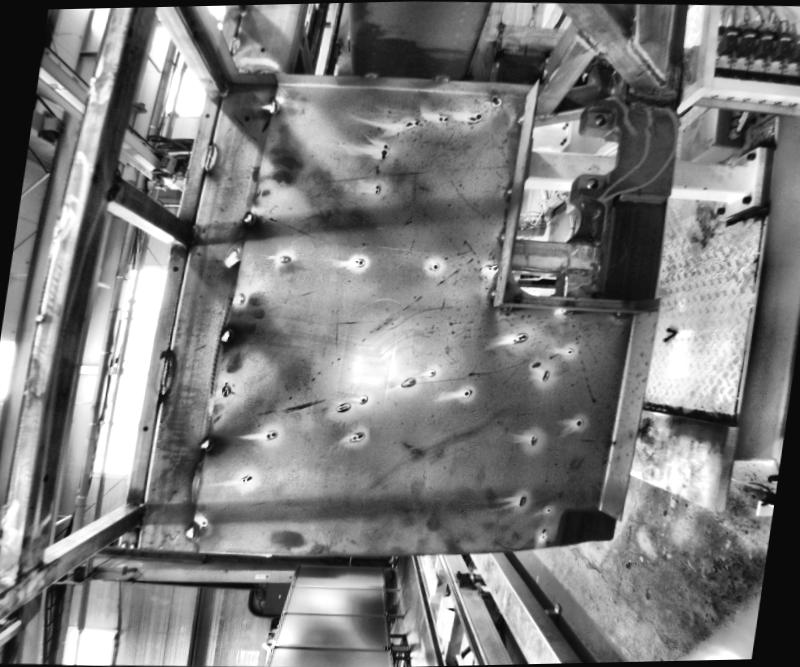hole: (584, 174, 598, 188), (595, 114, 610, 126), (258, 43, 268, 51), (172, 264, 182, 270), (243, 114, 252, 120), (142, 424, 150, 430), (208, 112, 212, 116)
welding: (626, 42, 669, 82), (573, 28, 599, 56), (161, 351, 174, 399), (200, 431, 218, 454), (229, 30, 243, 56), (242, 208, 260, 228), (204, 139, 216, 168), (188, 225, 198, 246), (435, 71, 454, 82), (268, 97, 280, 114), (186, 523, 200, 536), (612, 308, 632, 317), (516, 111, 529, 124), (222, 328, 234, 342), (505, 182, 517, 194), (553, 306, 574, 312), (498, 227, 508, 239), (366, 70, 380, 78), (489, 286, 496, 298), (500, 305, 510, 310)
